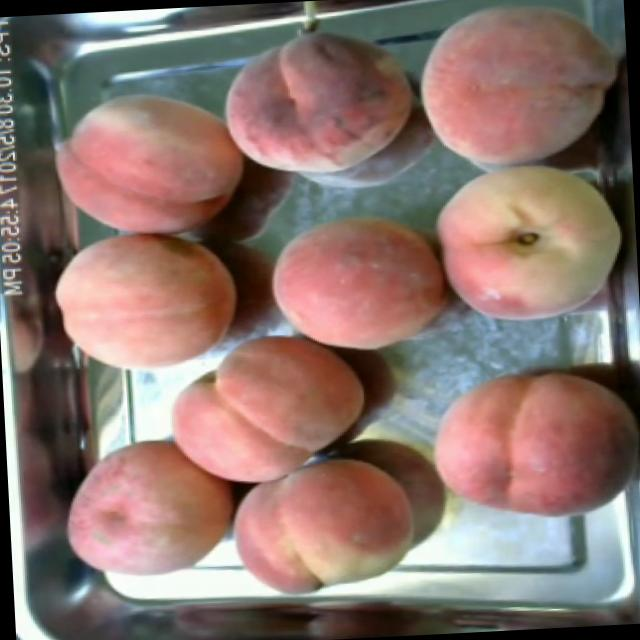Fruit: (207, 9, 440, 198), (399, 0, 632, 177), (420, 351, 640, 536), (418, 154, 636, 340), (152, 324, 380, 501), (216, 434, 430, 611), (260, 195, 467, 367), (41, 221, 251, 389), (49, 426, 250, 598), (47, 79, 254, 243)
